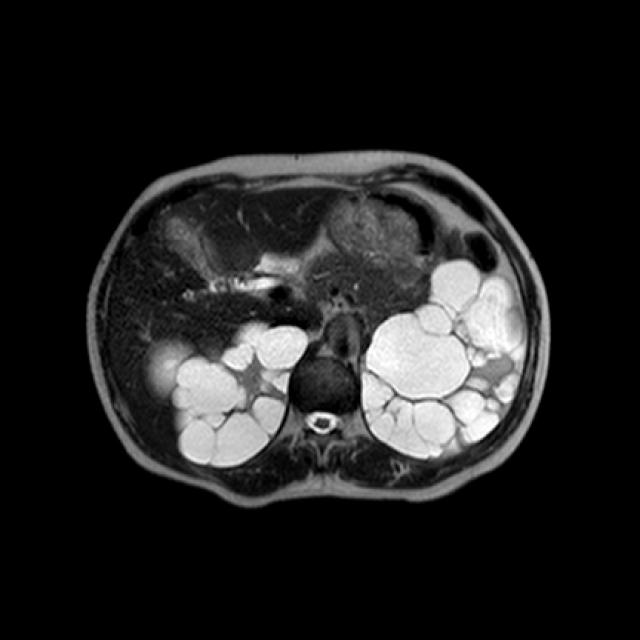sag: (149, 322, 308, 469)
sol: (362, 256, 524, 462)
